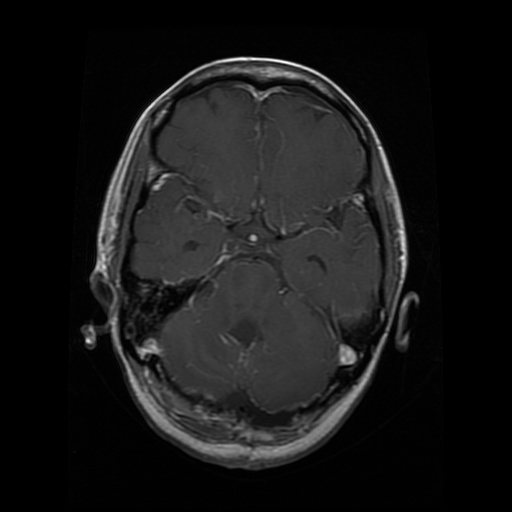glioma: (226, 314, 262, 347)
